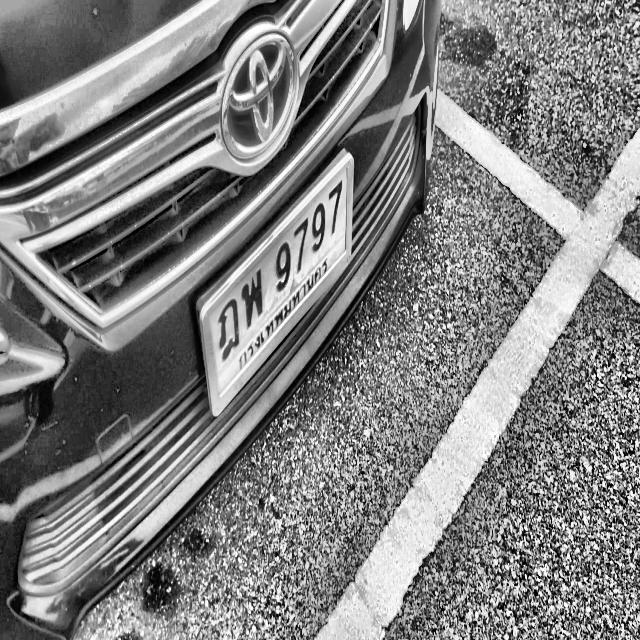license-plate: (197, 139, 356, 426)
